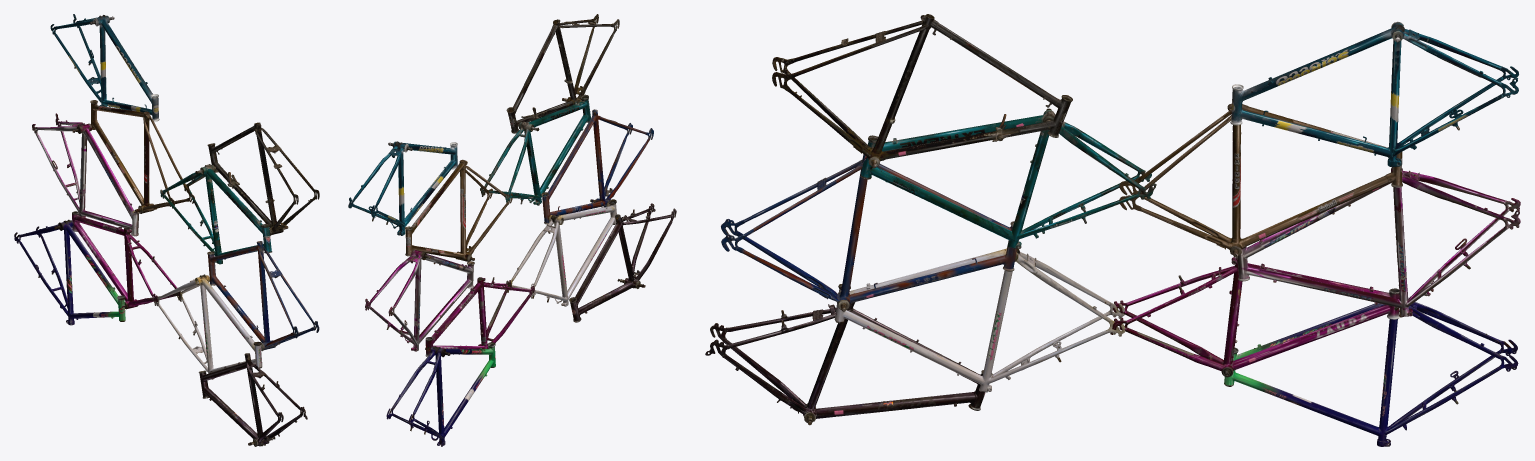
Rendered from FrameStructure_test_v2_vertical.glb.
3 renders of one model, left to right at view 1: azimuth 30°, elevation 25°; view 2: azimuth 150°, elevation 25°; view 3: azimuth 270°, elevation 25°, orthographic. The views are drawn at different scales.
Size of the model in its own units: 0.3783 by 1.76 by 2.84.
10 materials, 10 textured.
